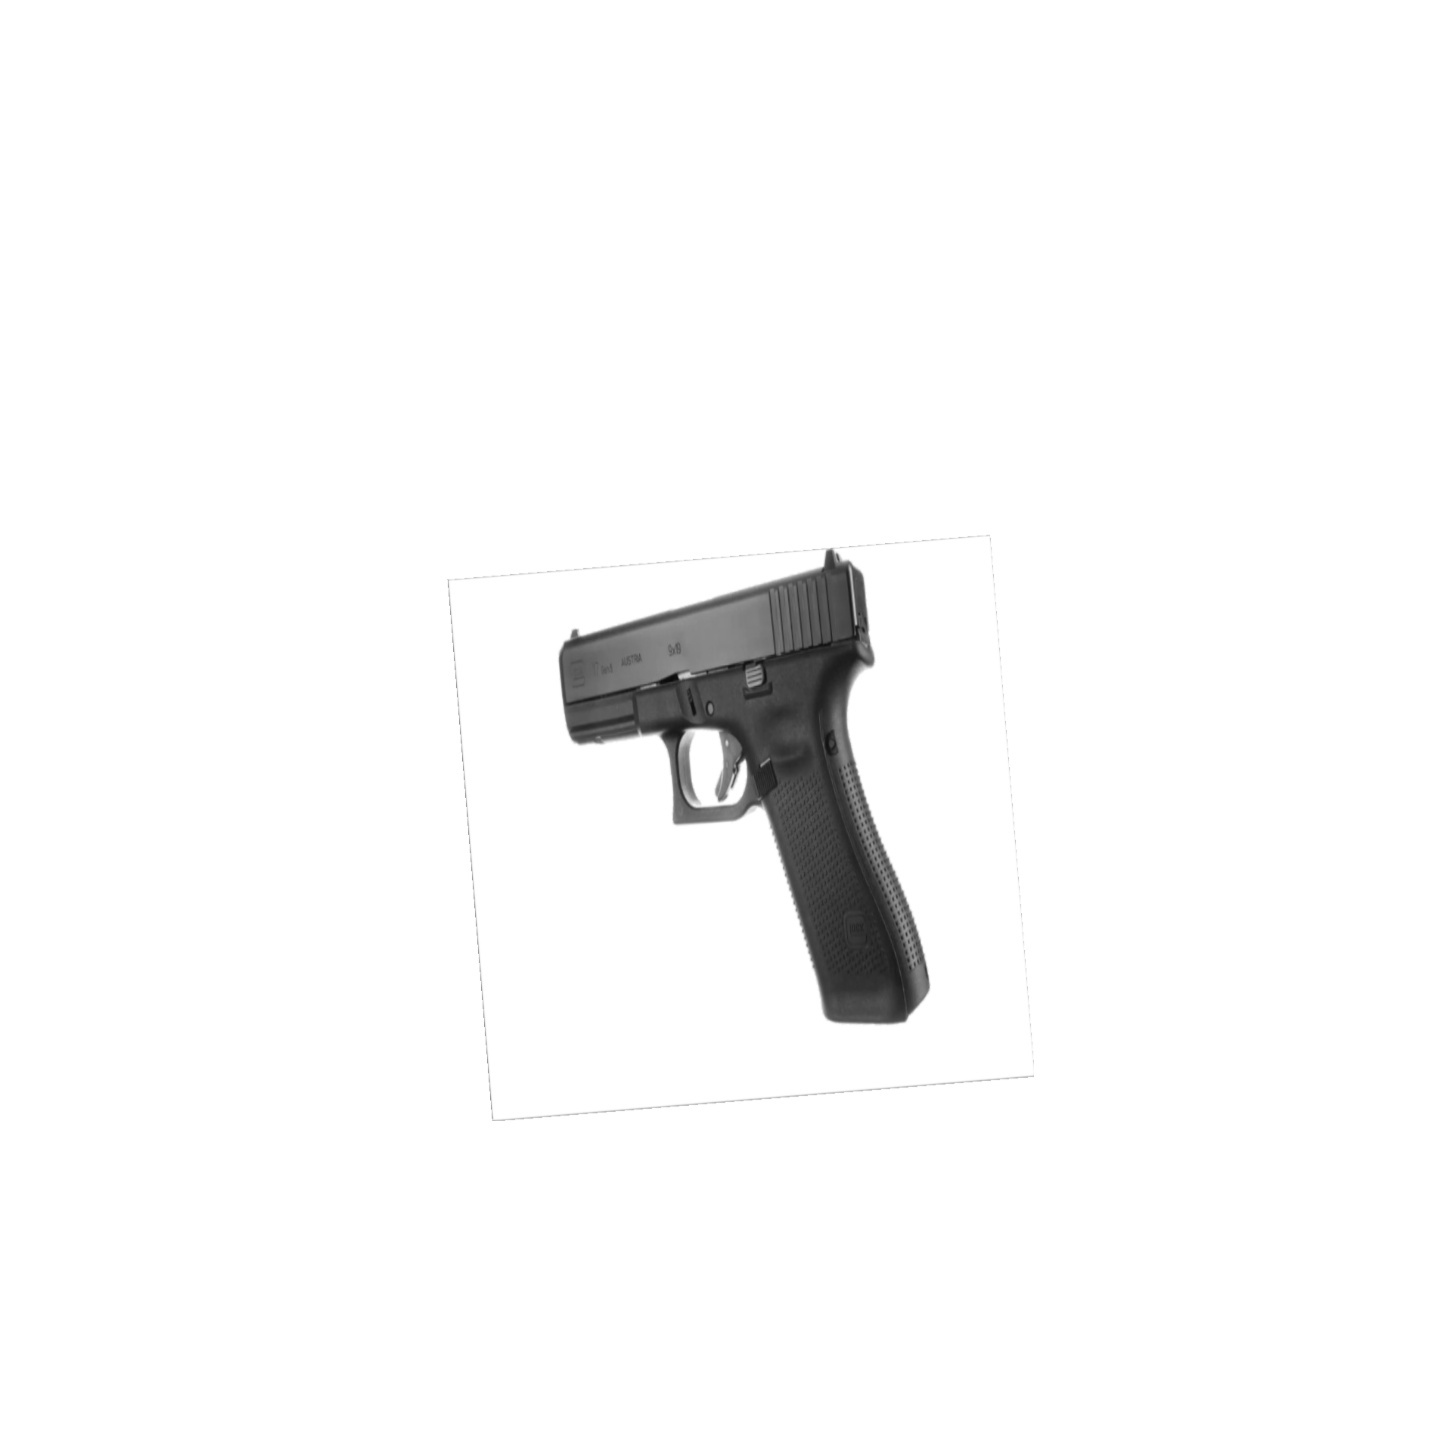gun: (554, 546, 931, 1025)
